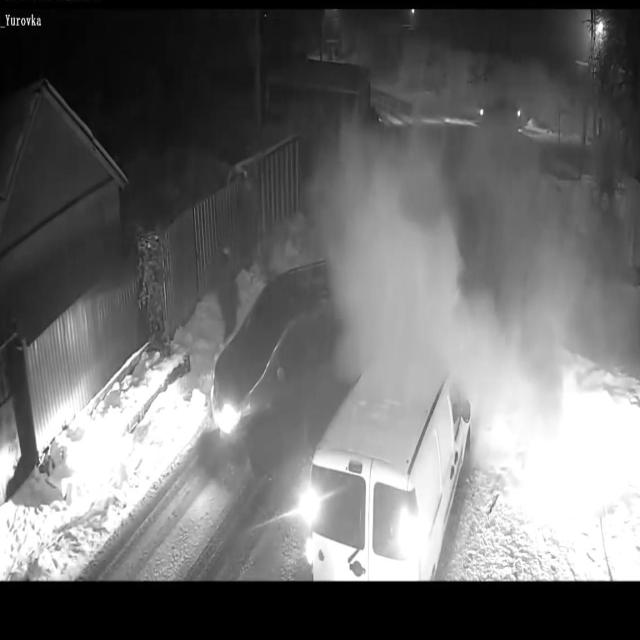accident: (206, 233, 478, 577)
